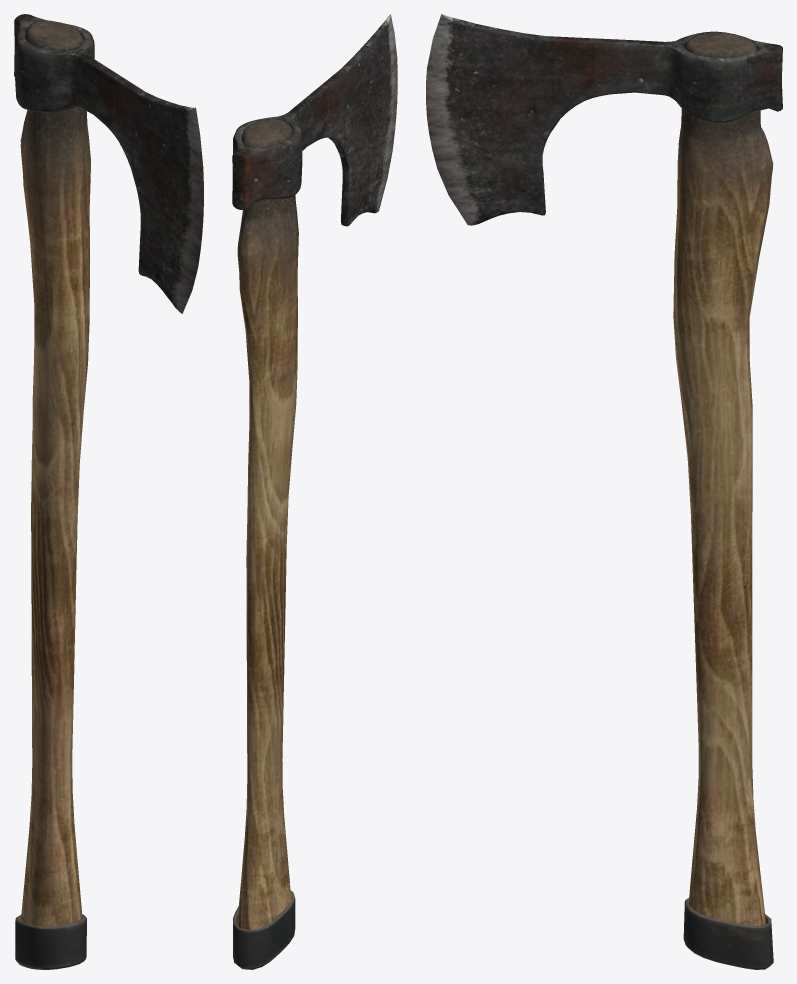
File: wooden_axe.glb
The picture shows the model from 3 angles, left to right: view 1: azimuth 30°, elevation 25°; view 2: azimuth 150°, elevation 25°; view 3: azimuth 270°, elevation 25°; orthographic projection. The views are drawn at different scales.
Visible parts, largest first — view 1: wooden_axe; view 2: wooden_axe; view 3: wooden_axe.
Boxes of the visible parts, <box> form: wooden_axe: <box>14,14,203,969</box>; wooden_axe: <box>232,14,397,969</box>; wooden_axe: <box>426,14,782,969</box>.
Bounding box in the file's own units: 0.0472 × 0.6303 × 0.2143.
Materials: 1 (1 with a texture image).
